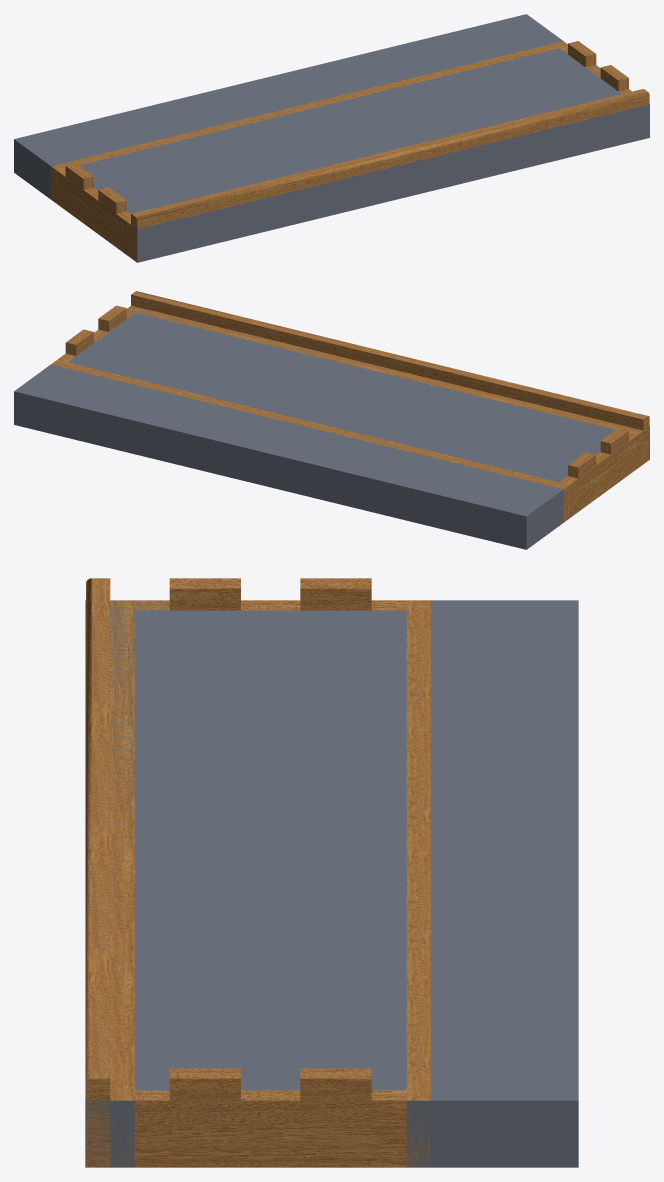
The model's file is VCKS0040.glb.
The picture shows the model from 3 angles, top to bottom: view 1: azimuth 30°, elevation 25°; view 2: azimuth 150°, elevation 25°; view 3: azimuth 270°, elevation 25°; orthographic projection. The views are drawn at different scales.
Parts seen in each view (by area): view 1: _bb0, G-Group#43.001; view 2: _bb0, G-Group#43.001; view 3: _bb0, G-Group#43.001.
Part boxes in pixels (x1,y1,x2,y2): _bb0: (14, 14, 649, 262); G-Group#43.001: (51, 41, 649, 262); _bb0: (14, 306, 649, 549); G-Group#43.001: (51, 291, 649, 522); _bb0: (85, 600, 578, 1167); G-Group#43.001: (86, 578, 430, 1167).
Bounding box in the file's own units: 0.609 × 0.0505 × 0.2539.
Materials: 3 (2 with a texture image).
